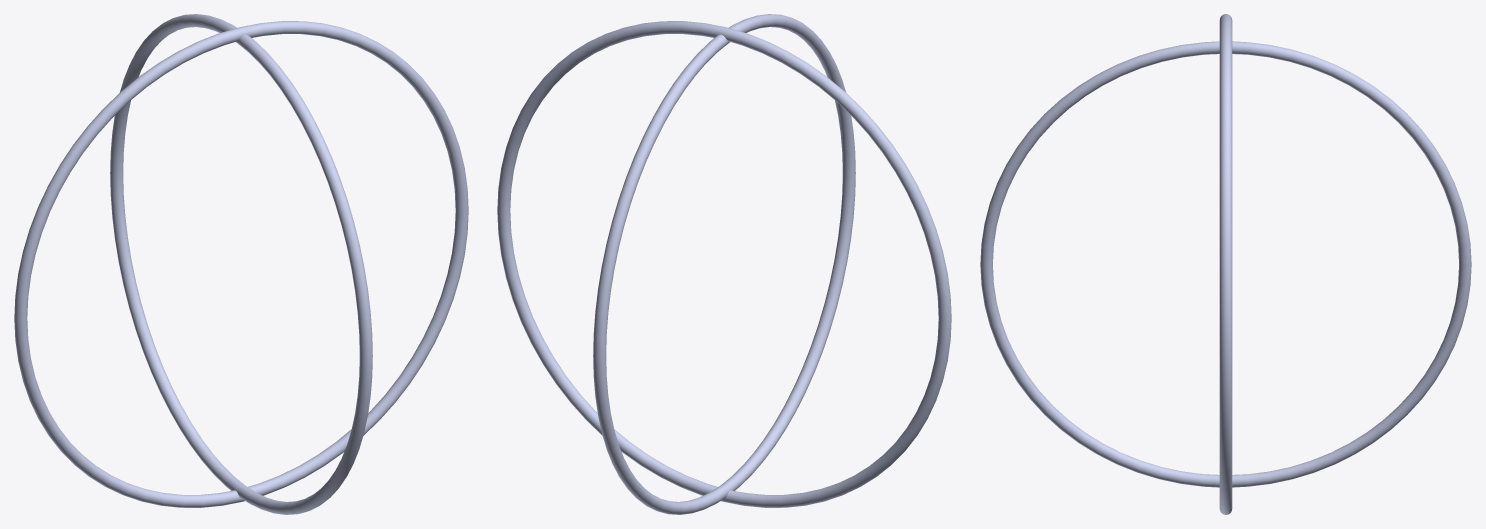
The picture shows the model from 3 angles, left to right: view 1: azimuth 30°, elevation 25°; view 2: azimuth 150°, elevation 25°; view 3: azimuth 270°, elevation 25°; orthographic projection. The views are drawn at different scales.
Parts seen in each view (by area): view 1: Body_1; view 2: Body_1; view 3: Body_1.
Boxes of the visible parts, left/top/right/bottom form: Body_1: left=14, top=14, right=468, bottom=514; Body_1: left=497, top=14, right=951, bottom=514; Body_1: left=980, top=14, right=1471, bottom=514.
Size of the model in its own units: 0.04 by 0.04 by 0.0392.
